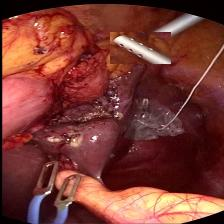Bipolar: (15, 158, 81, 224)
Irrigator: (109, 32, 170, 64)
Specimen Bag: (130, 94, 198, 142)
